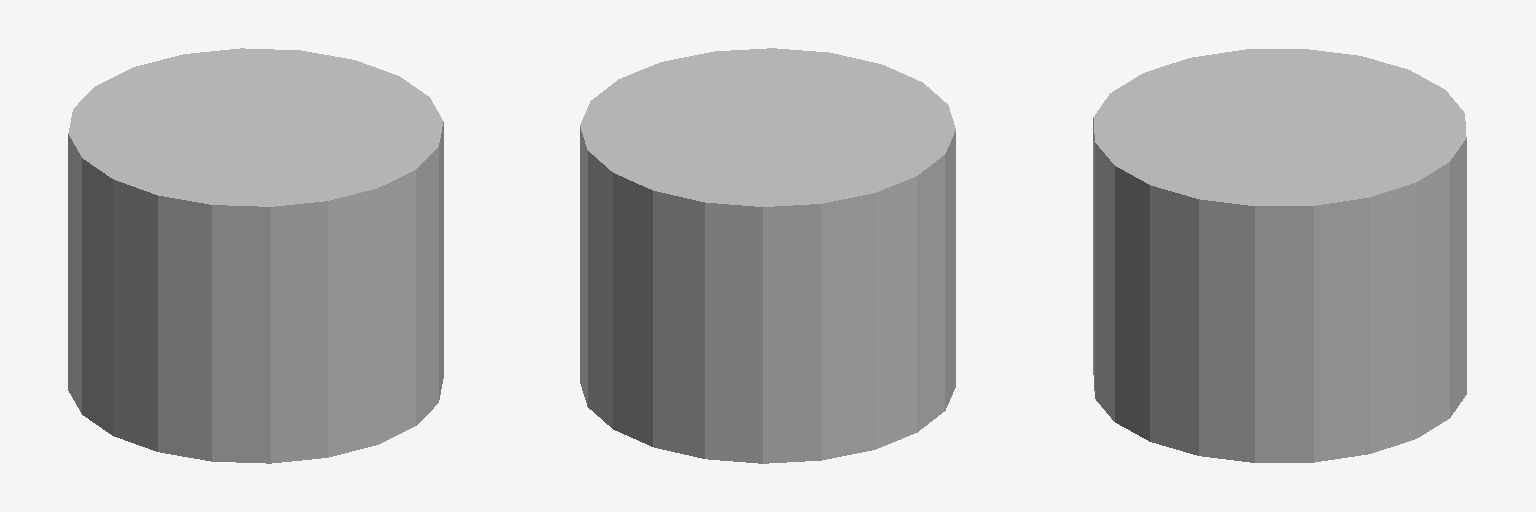
The model's file is Resaltado_Nervio_supraclavicular_D_3.obj.
The picture shows the model from 3 angles: view 1: azimuth 30°, elevation 25°; view 2: azimuth 150°, elevation 25°; view 3: azimuth 270°, elevation 25°; orthographic projection.
Visible parts, largest first — view 1: polySurface20 Marcadores1; view 2: polySurface20 Marcadores1; view 3: polySurface20 Marcadores1.
Part boxes in pixels (x1,y1,x2,y2): polySurface20 Marcadores1: (68,48,443,463); polySurface20 Marcadores1: (580,48,955,463); polySurface20 Marcadores1: (1093,49,1466,462).
Bounding box in the file's own units: 0.0277 × 0.021 × 0.0277.